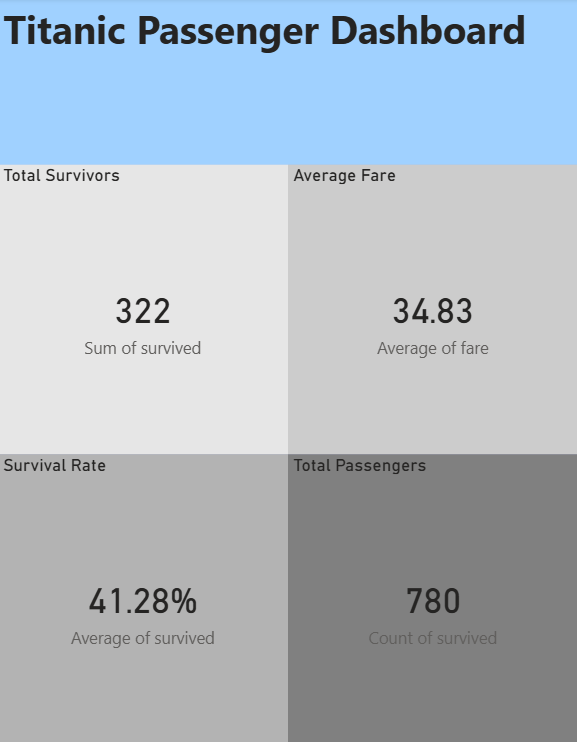

This screenshot's page, from the dashboard's own definition file:
{"tool":"powerbi","page":{"name":"Page 1","canvas":[1280,720],"ordinal":0},"visuals":[{"type":"card","title":"Total Survivors","fields":{"Values":["Sum(cleaned_titanic.survived)"]},"box":[0,160.5,279.9,279.9],"z":0},{"type":"card","title":"Survival Rate","fields":{"Values":["Avg(cleaned_titanic.survived)"]},"box":[0,440.5,279.9,279.9],"z":1000},{"type":"card","title":"Average Fare","fields":{"Values":["Avg(cleaned_titanic.fare)"]},"box":[279.9,160.5,279.9,279.9],"z":2000},{"type":"card","title":"Total Passengers","fields":{"Values":["CountNonNull(cleaned_titanic.survived)"]},"box":[279.9,440.5,279.9,279.9],"z":3000},{"type":"textbox","box":[0,0,559.9,160.5],"z":3001}]}

Visuals, with their boxes on the page's 1280x720 design canvas (x1, y1, x2, y2). These are canvas units, not pixel positions in the 577x742 screenshot, which may show the page scaled, cropped or inside an application window:
"Total Survivors" card: Rect(0, 160, 280, 440)
"Survival Rate" card: Rect(0, 440, 280, 720)
"Average Fare" card: Rect(280, 160, 560, 440)
"Total Passengers" card: Rect(280, 440, 560, 720)
textbox: Rect(0, 0, 560, 160)
